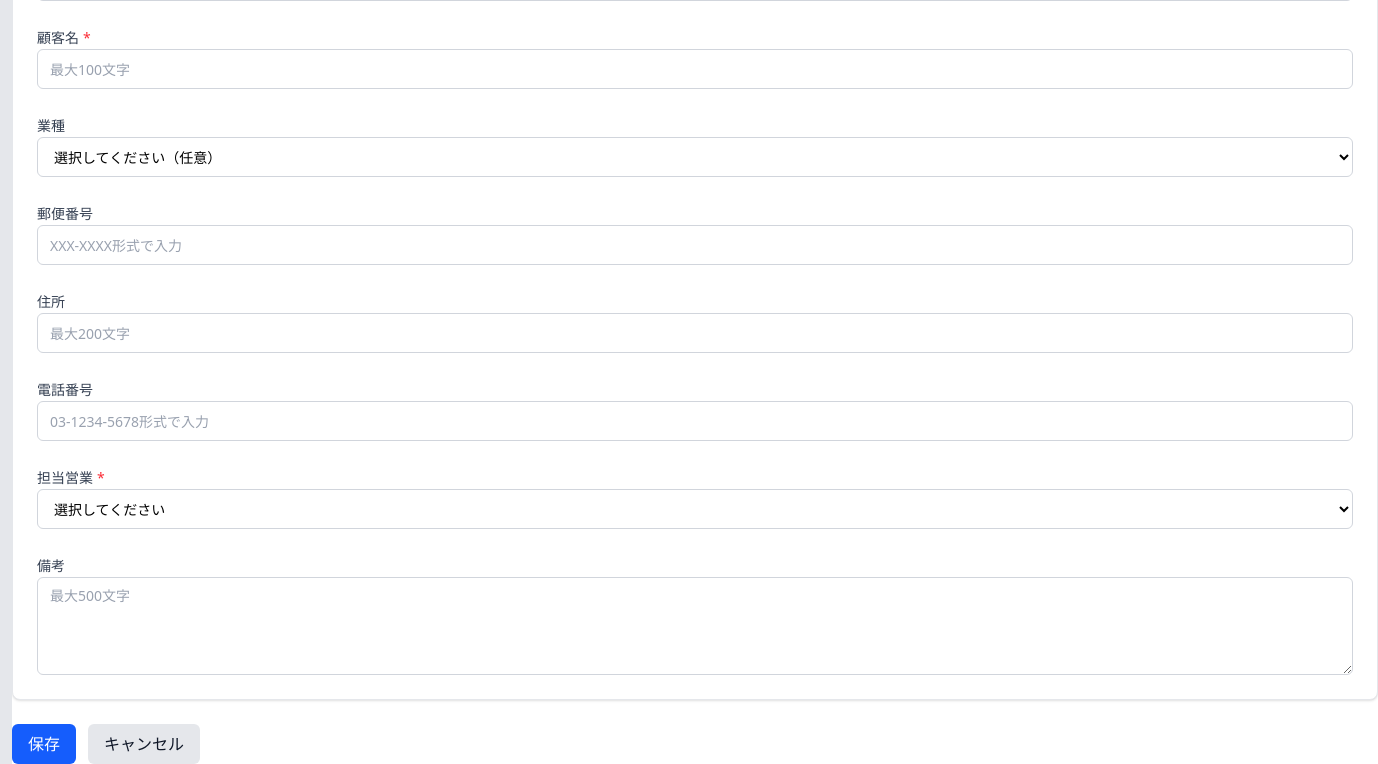
Test: CustomerForm › 新規登録モード › 必須項目が未入力の場合、エラーメッセージが表示される
This screenshot has width=1378, height=764.
(page scrolled)
What coordinates should you click on to do the following:
click the button "保存"
I would click on:
 (44, 744)
Its box is [12, 724, 76, 763].
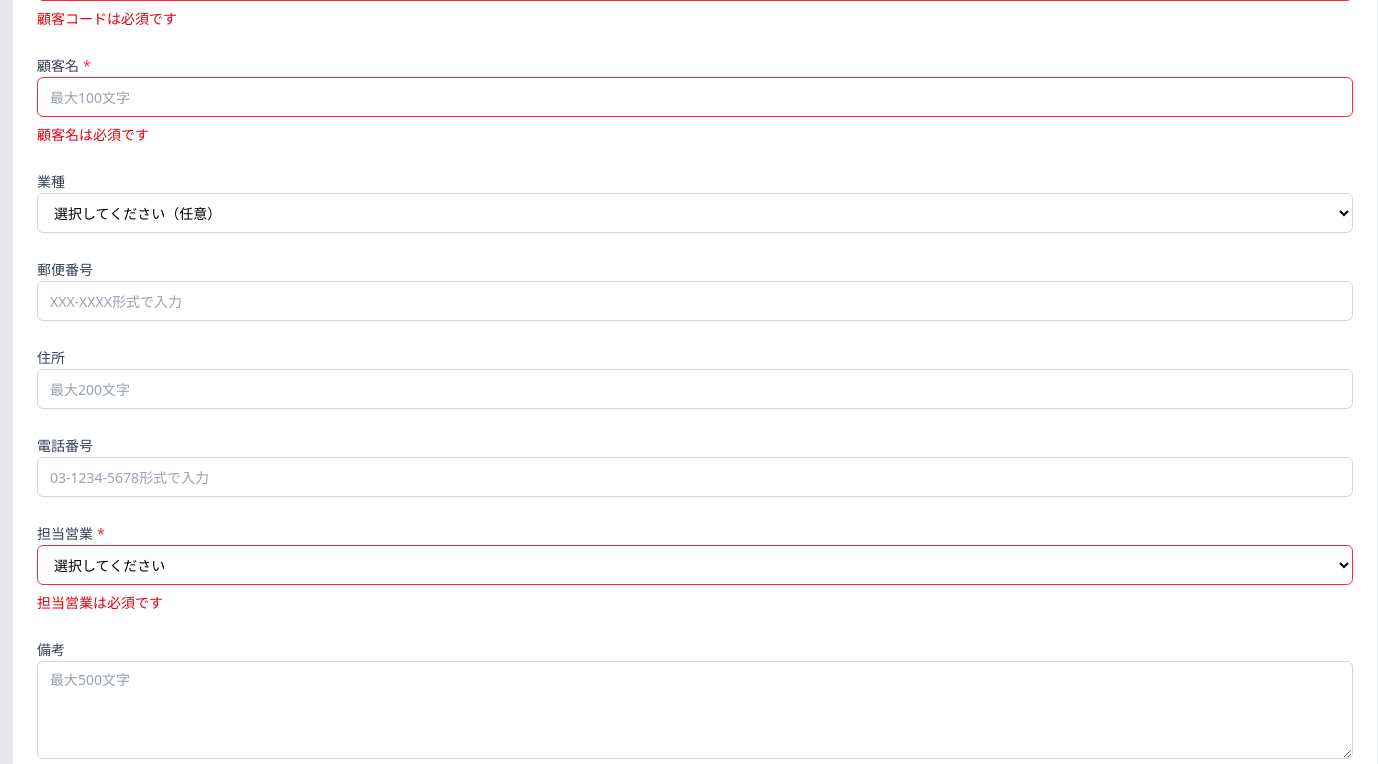
Check: the text "顧客コードは必須です" is shown, box [37, 9, 177, 28]
Check: the text "顧客名は必須です" is shown, box [37, 125, 149, 144]
Check: the text "担当営業は必須です" is shown, box [37, 593, 163, 612]
